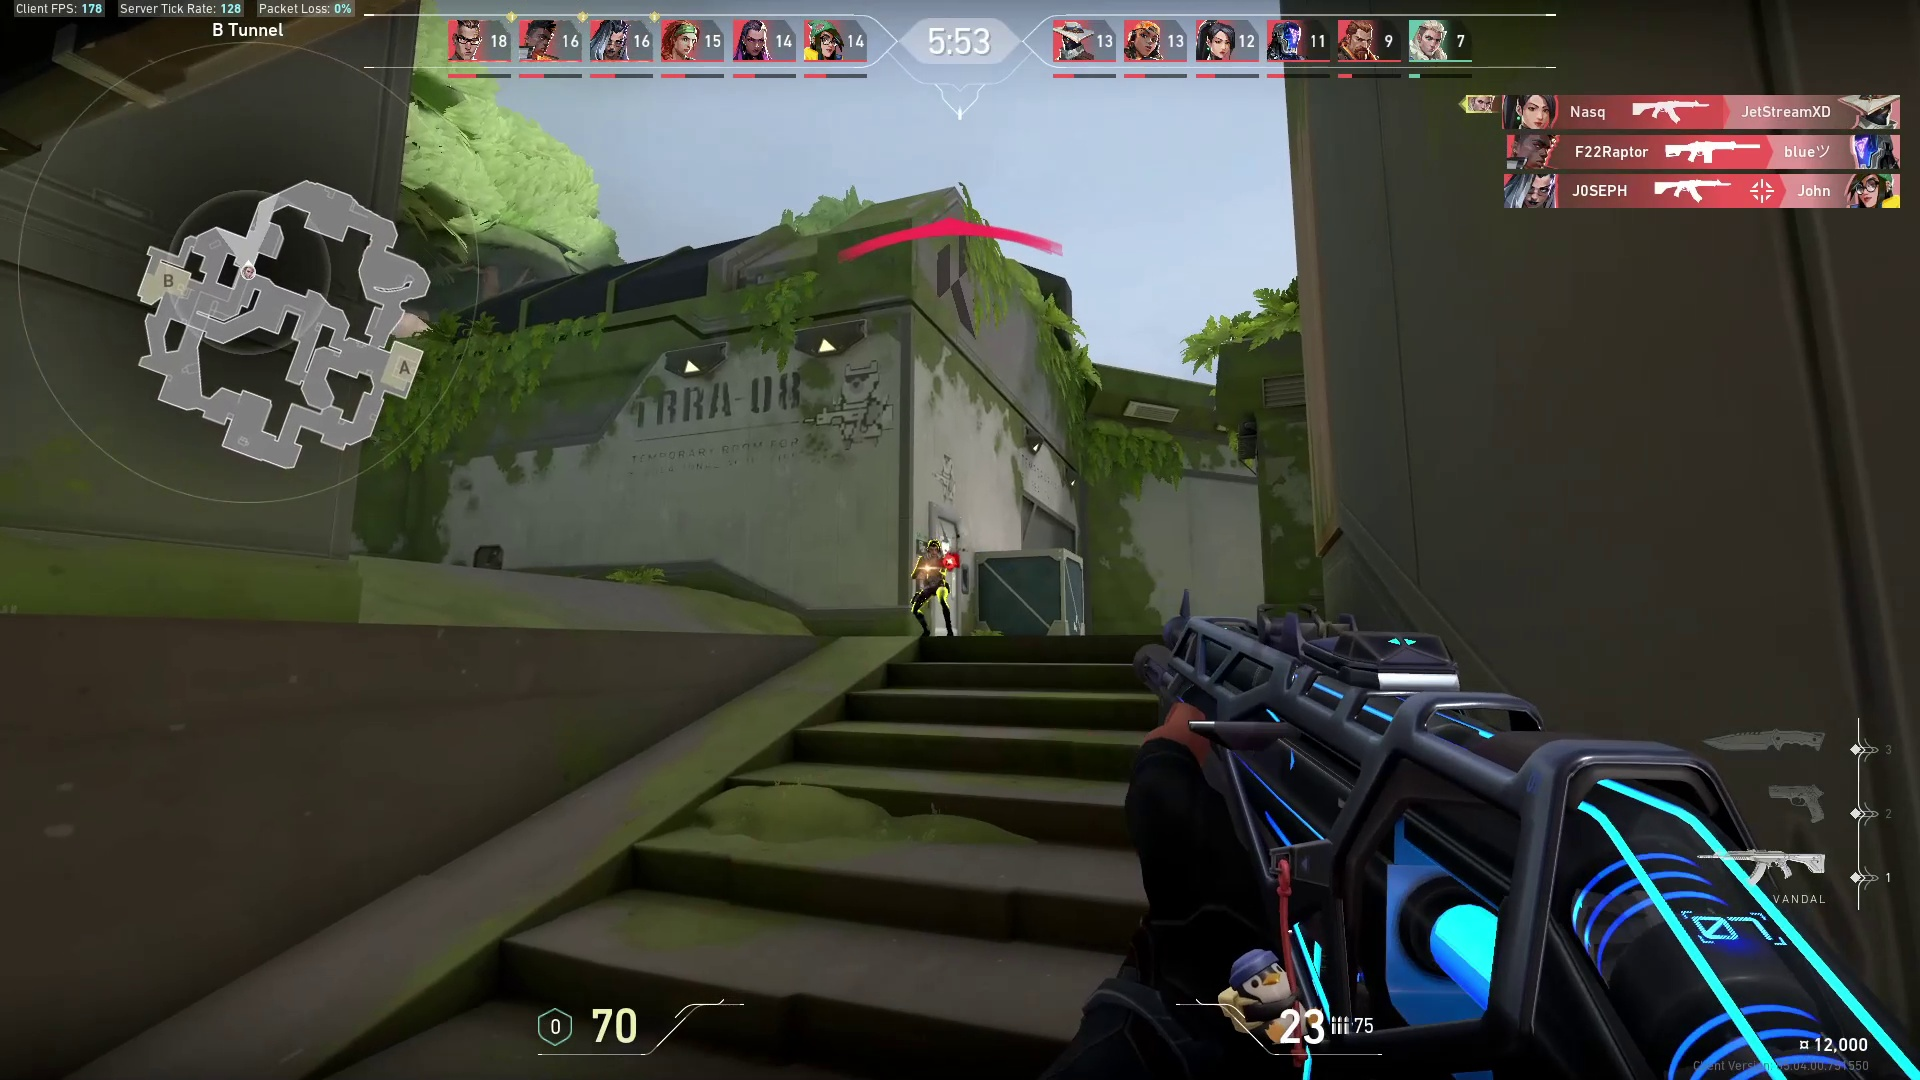enemy_body: (903, 556, 963, 637)
enemy_head: (916, 534, 953, 560)
